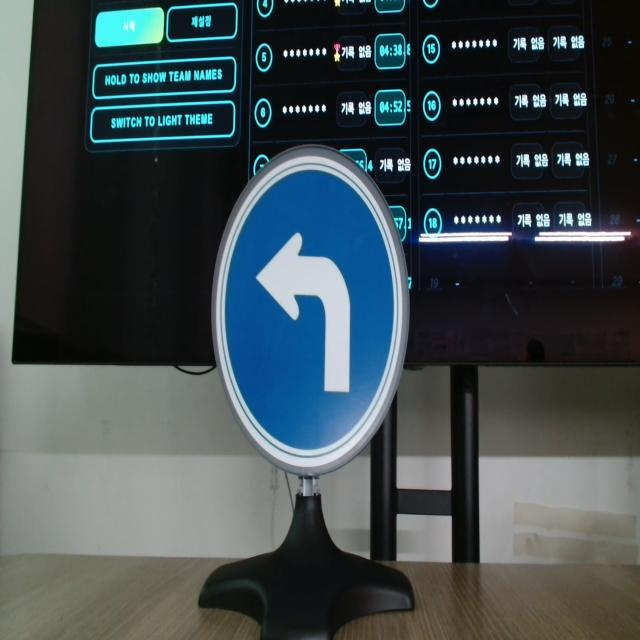left_direction: (209, 142, 406, 481)
